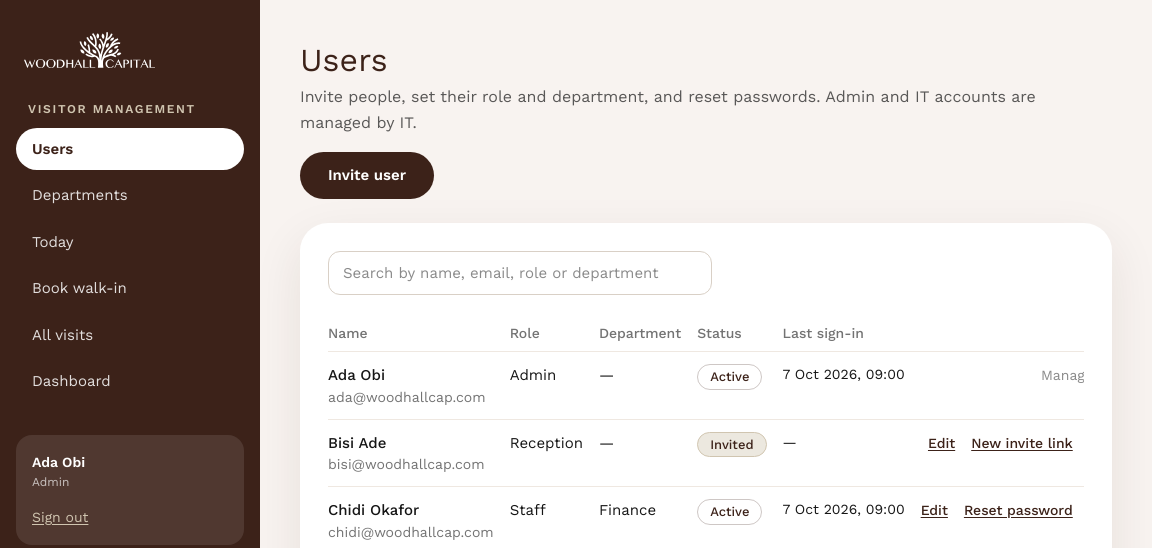
Test: a new link for an invited user
Click the button "New invite link" at (1022, 442), box top-left (971, 432), bottom-right (1073, 452)
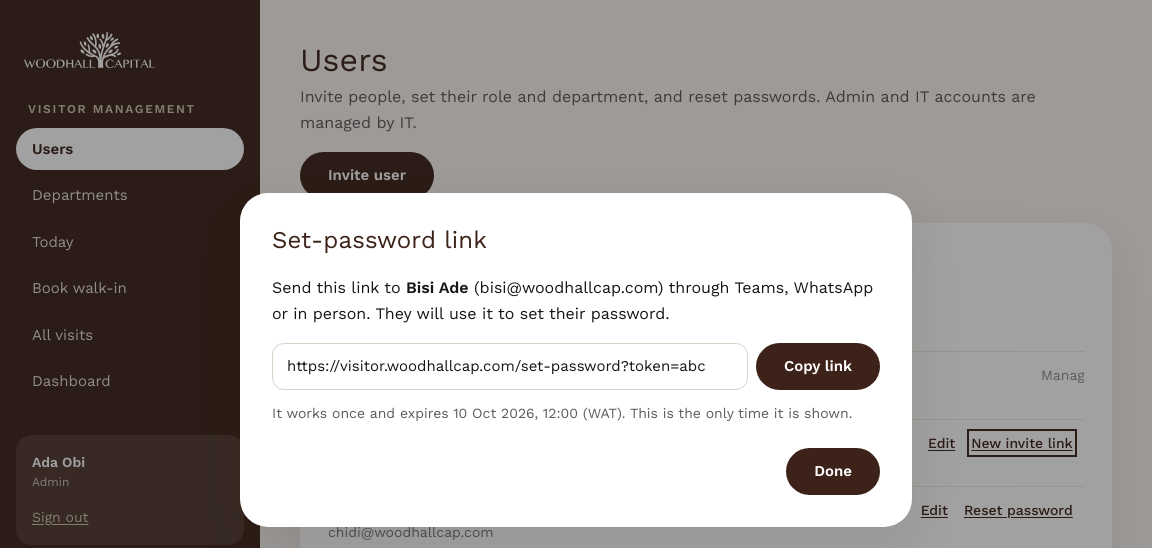
Now the dialog "Set-password link" is shown, box top-left (240, 193), bottom-right (912, 527)
